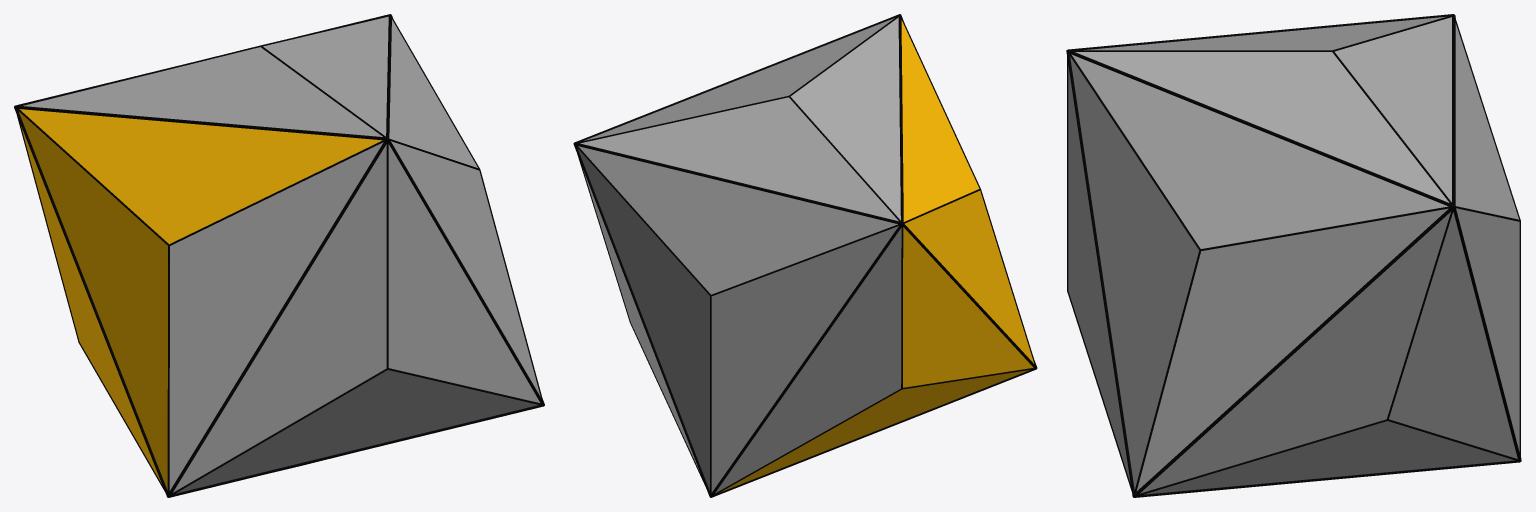
File: polyformsTriOctRot_4_5.glb
The picture shows the model from 3 angles, left to right: view 1: azimuth 30°, elevation 25°; view 2: azimuth 150°, elevation 25°; view 3: azimuth 270°, elevation 25°; orthographic projection. The views are drawn at different scales.
Bounding box in the file's own units: 3.44 × 3.44 × 3.44.
